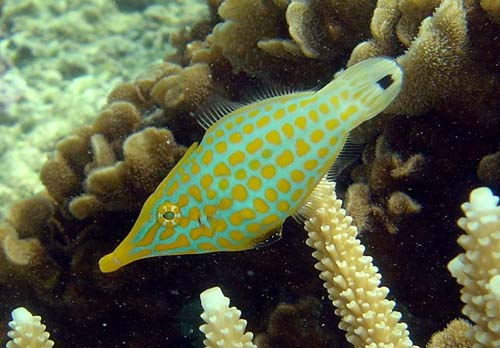fish: (99, 56, 404, 274)
